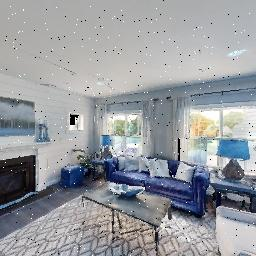sofa: (97, 150, 212, 223)
table: (77, 173, 176, 252)
